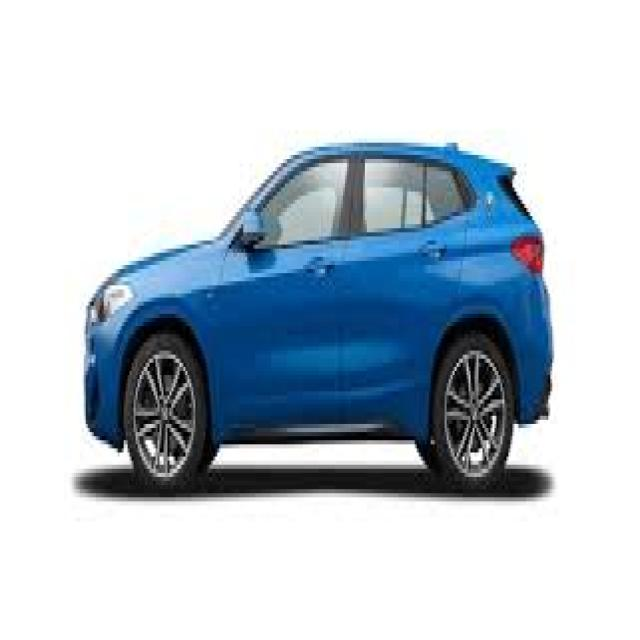Cars: (83, 85, 561, 539)
